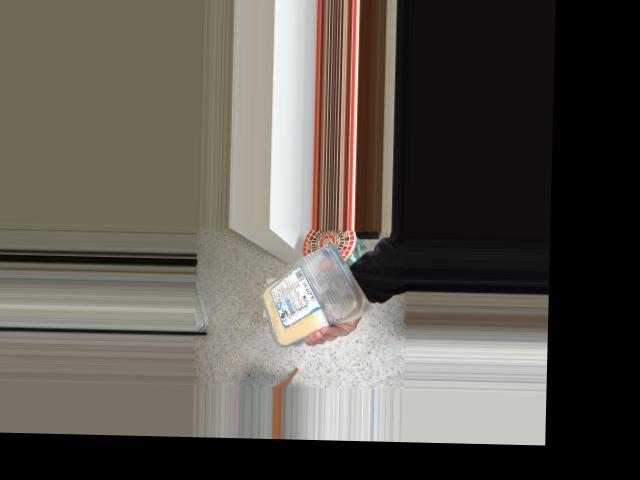cheese: (257, 244, 357, 334)
